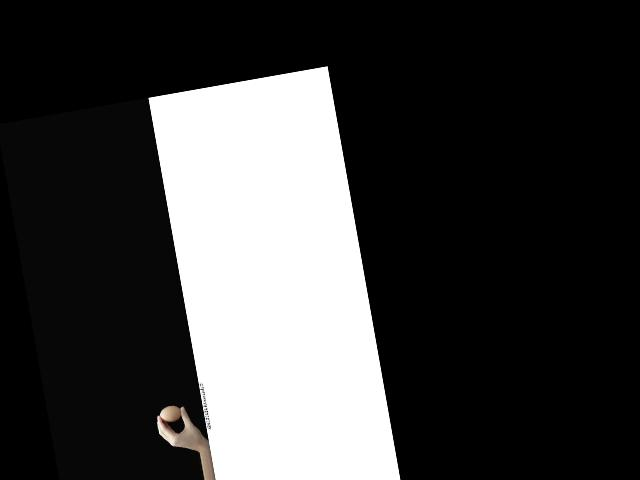egg: (158, 404, 182, 423)
